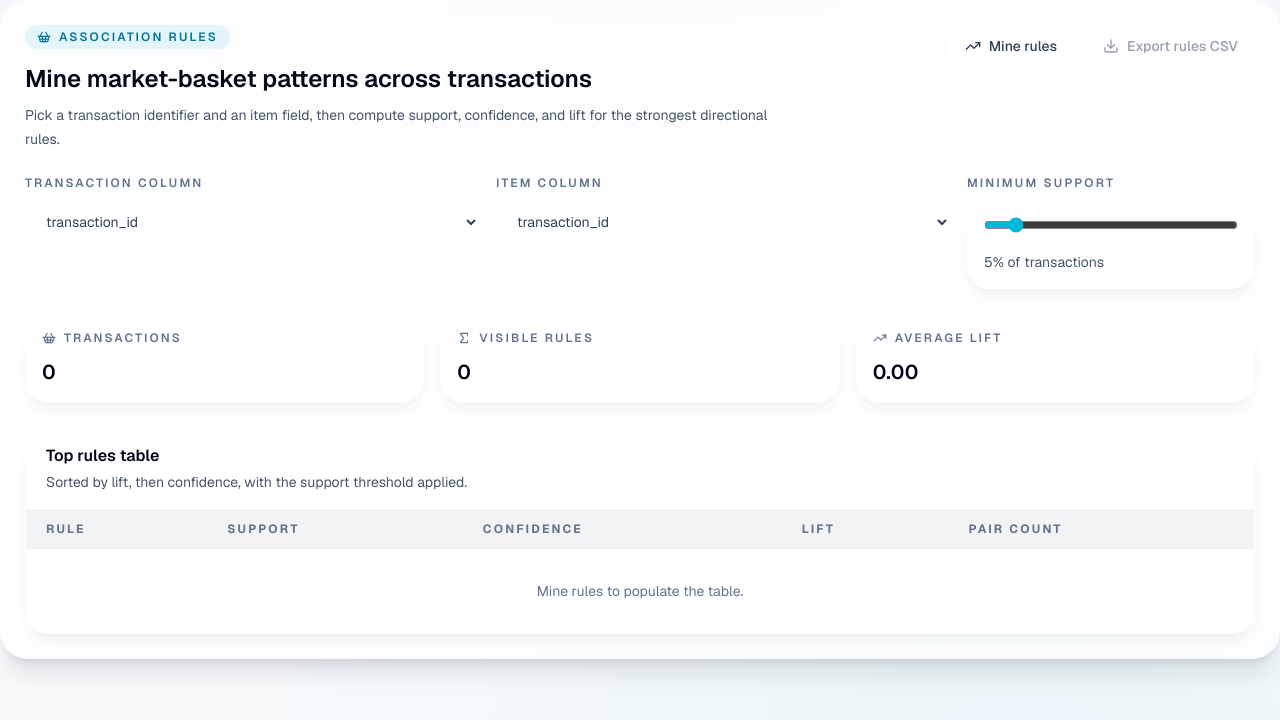
Test: AssociationRules › mines directional rules and shows the strongest pair
Click the button "Mine rules": point(1011, 46) x1=948 y1=25 x2=1074 y2=67
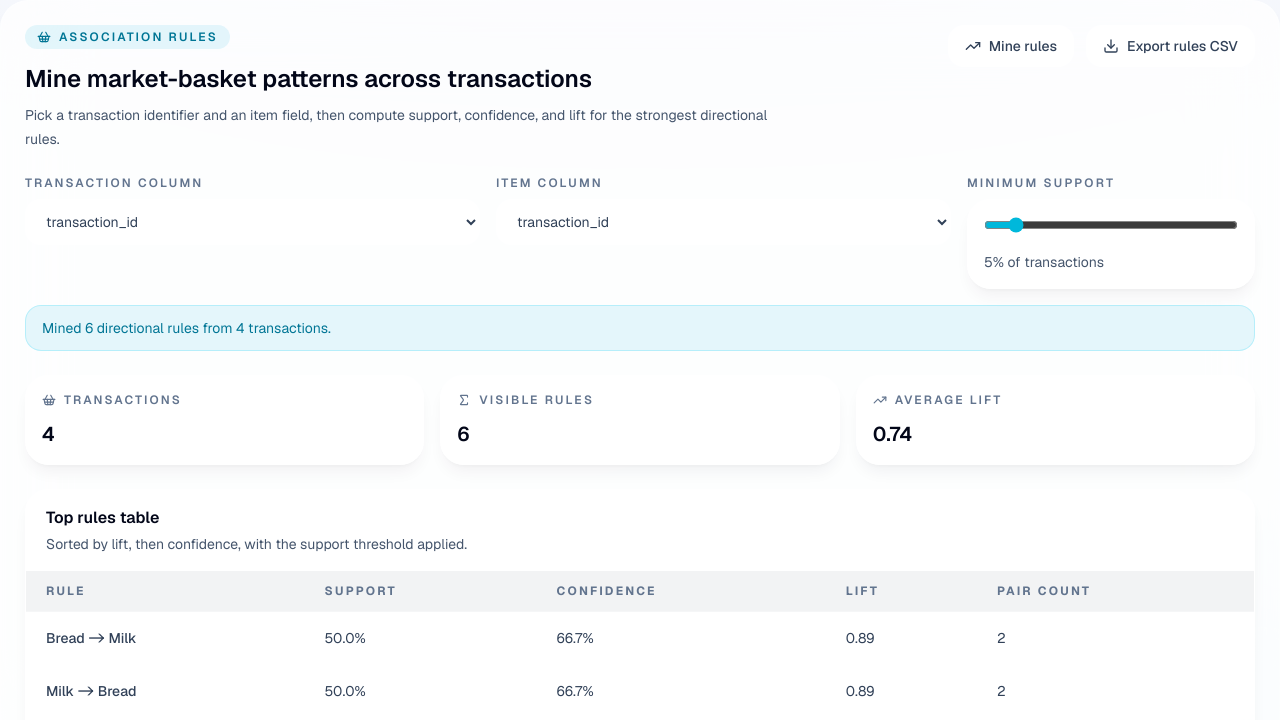
Check: the text "Mined 6 directional rules from 4 transactions." is shown, box x1=25 y1=305 x2=1255 y2=351
Check: the text "Milk -> Bread" is shown, box x1=26 y1=664 x2=305 y2=718
Check: the 1st text "50.0%" is shown, box x1=305 y1=612 x2=536 y2=664
